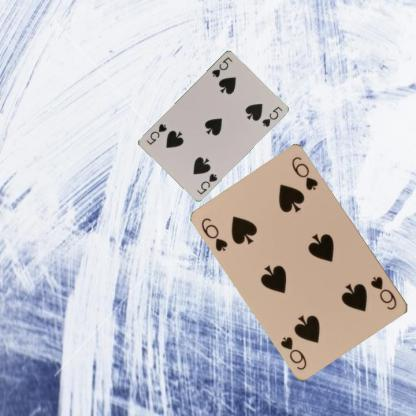5s: (194, 170, 219, 196), (209, 53, 234, 78)
6s: (199, 215, 230, 253), (368, 274, 399, 311)
